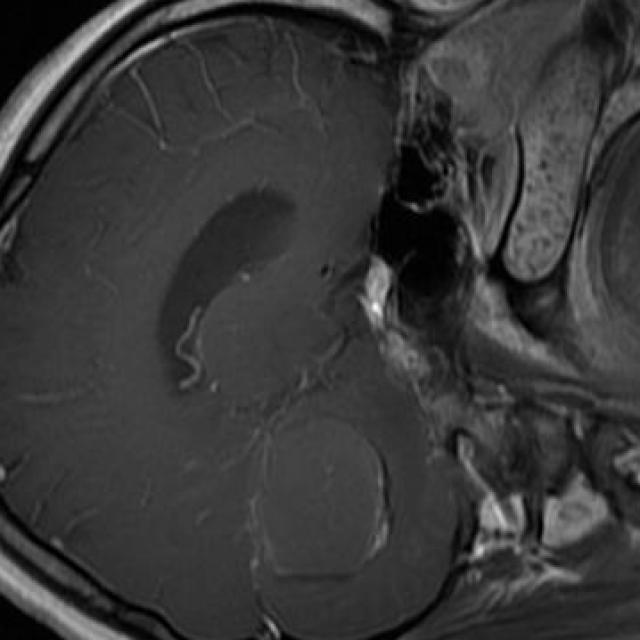glioma: (250, 421, 389, 578)
